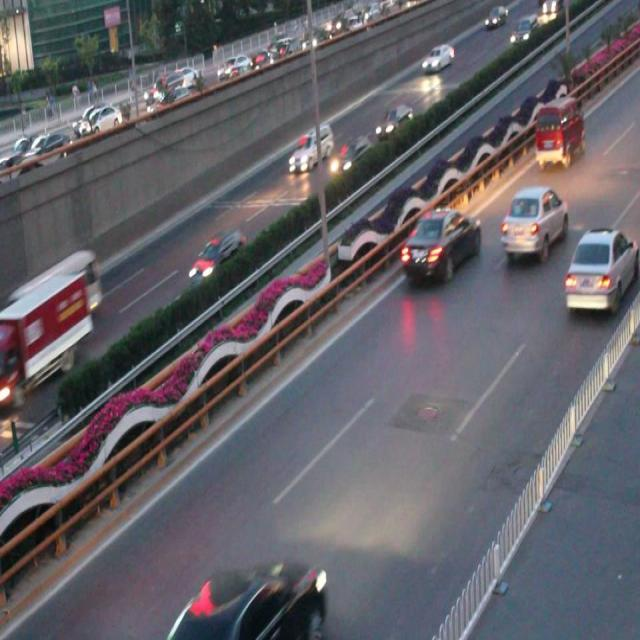bus: (1, 276, 91, 382)
car: (166, 557, 328, 640), (564, 228, 640, 315), (402, 207, 480, 275), (500, 182, 566, 258), (187, 230, 246, 280), (330, 135, 370, 174), (373, 102, 412, 139)
truck: (11, 252, 102, 318), (532, 100, 583, 170), (286, 121, 332, 173)
